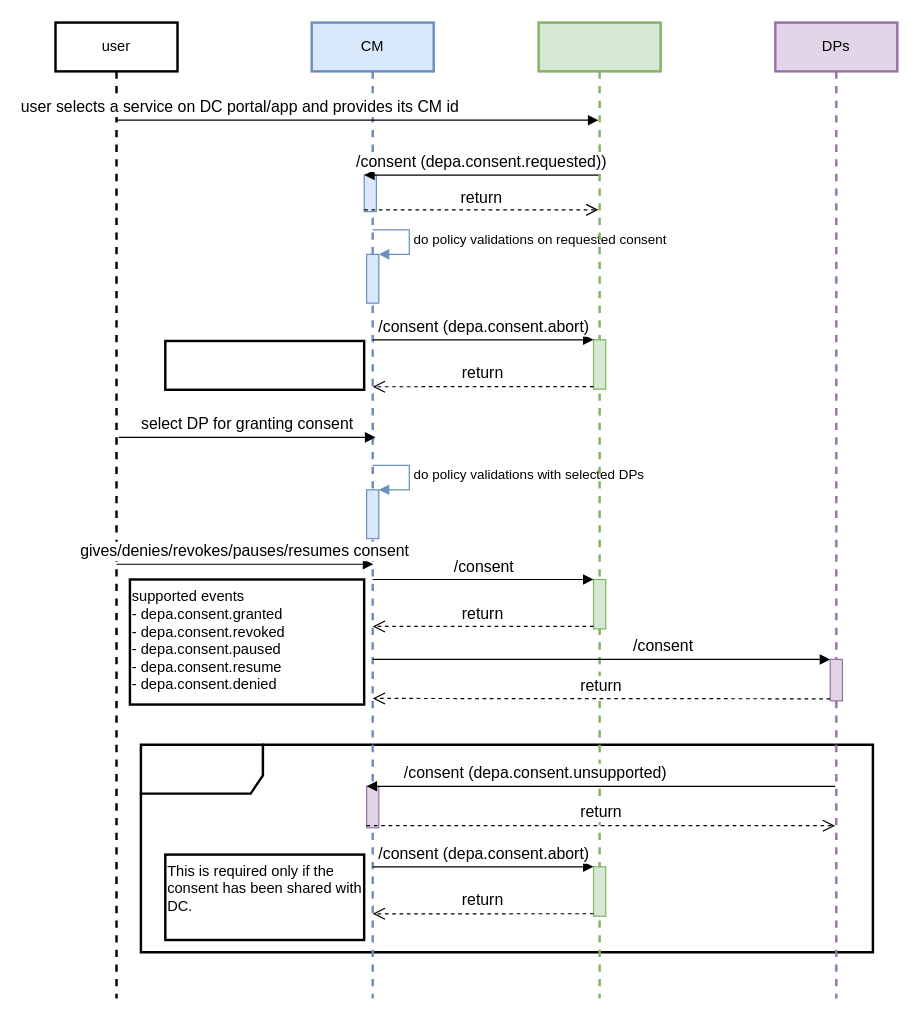
Some shapes in this 920 by 1020 pixel diagram are drawn without their labels. The shapes that lost their labels are listed below. From the top down, each one's box as (x1, y1, x2, y2) in pixels, then its label:
(163, 339, 365, 390): Abort consent request if policy validation fails
(537, 21, 661, 999): DC
(139, 743, 874, 953): only if consent unsupported
